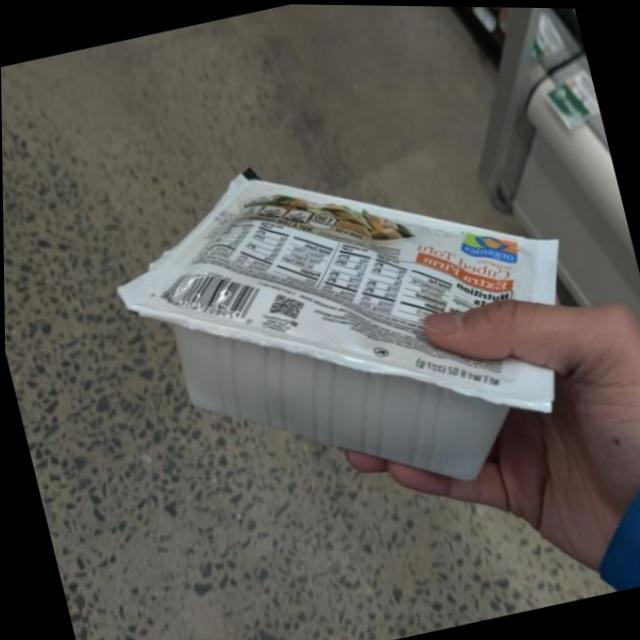Tofu: (90, 104, 608, 553)
